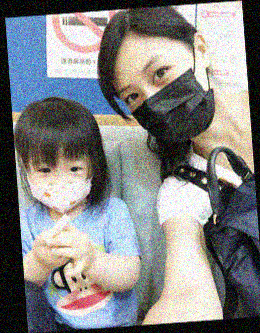with_mask: (116, 50, 216, 142), (27, 152, 94, 215)
